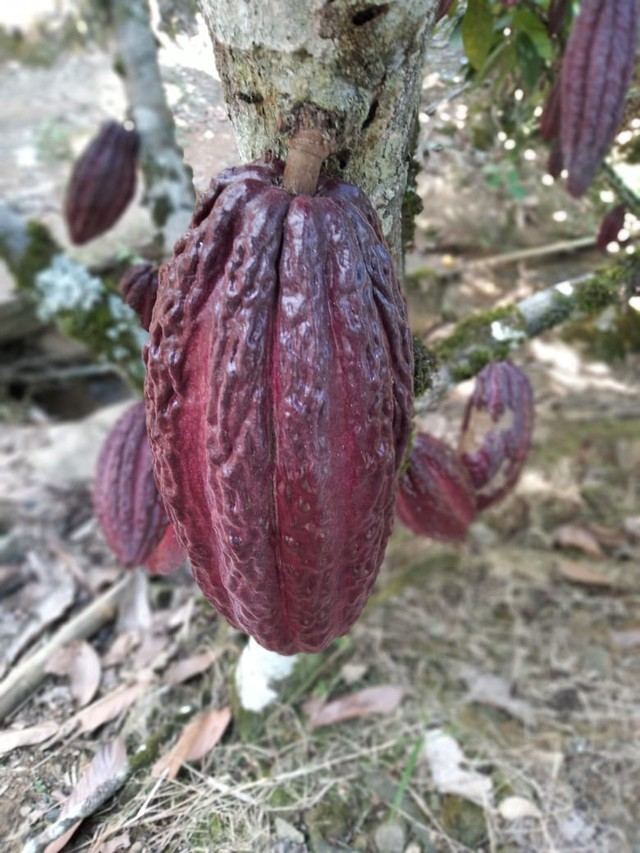Health: (142, 161, 421, 665)
